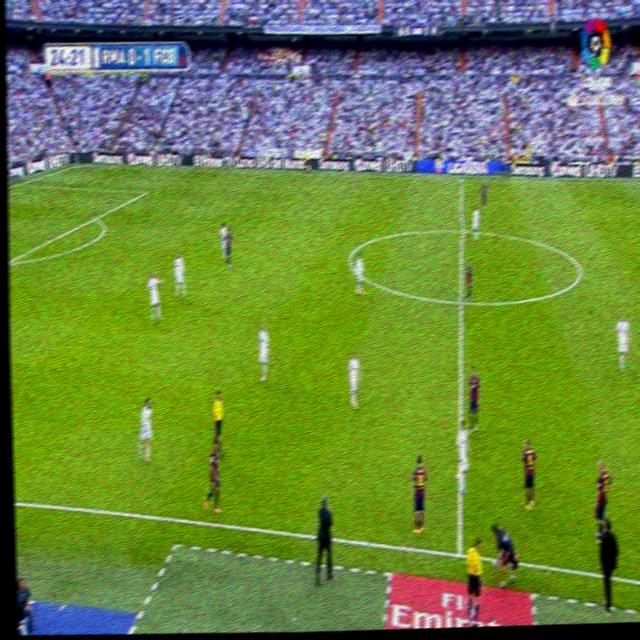bigarea_bottom_outter: (91, 210, 99, 224)
bigarea_top_inner: (142, 185, 149, 196)
halfcircle_bottom: (455, 289, 467, 312)
halfcircle_top: (456, 220, 468, 240)
midline_top_intersection: (457, 172, 464, 186)
